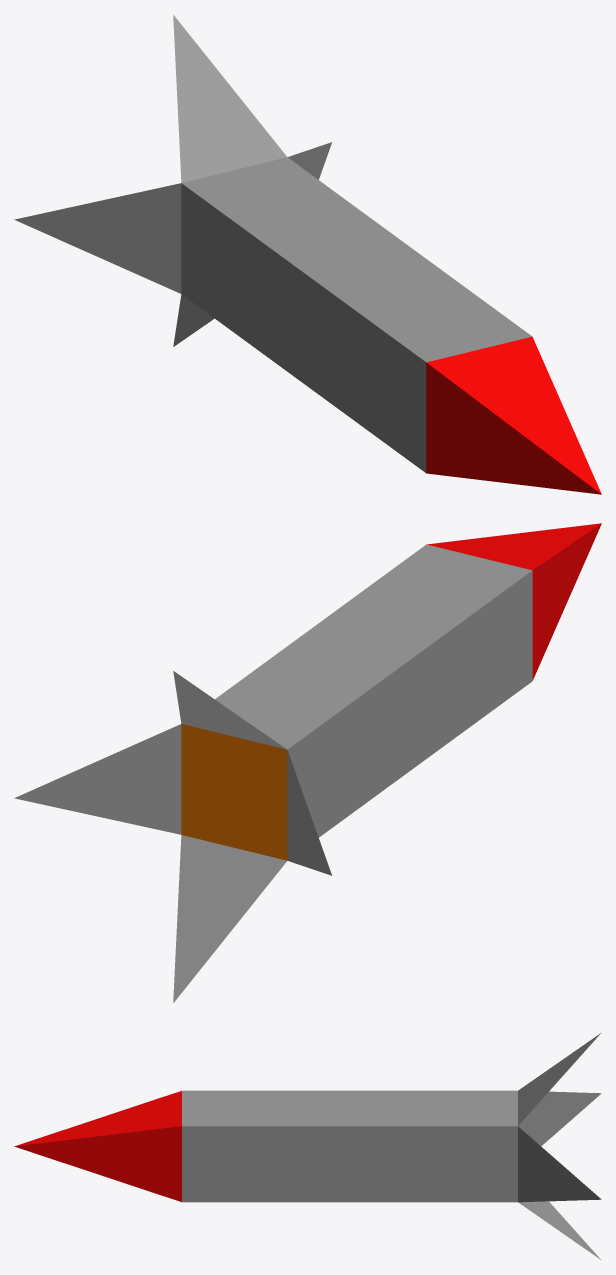
The model's file is torpedo.obj.
The picture shows the model from 3 angles, top to bottom: view 1: azimuth 30°, elevation 25°; view 2: azimuth 150°, elevation 25°; view 3: azimuth 270°, elevation 25°; orthographic projection. The views are drawn at different scales.
Size of the model in its own units: 0.6 by 0.6 by 1.4.
